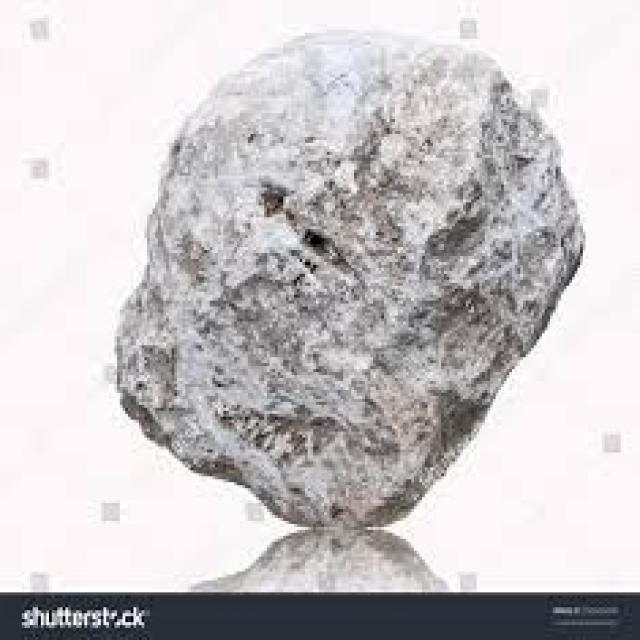Metamorphic: (117, 36, 580, 527)
